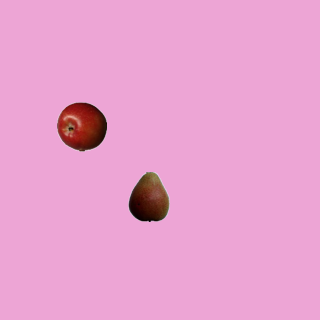Apple Braeburn: (56, 101, 106, 151)
Pear Forelle: (123, 171, 173, 221)
